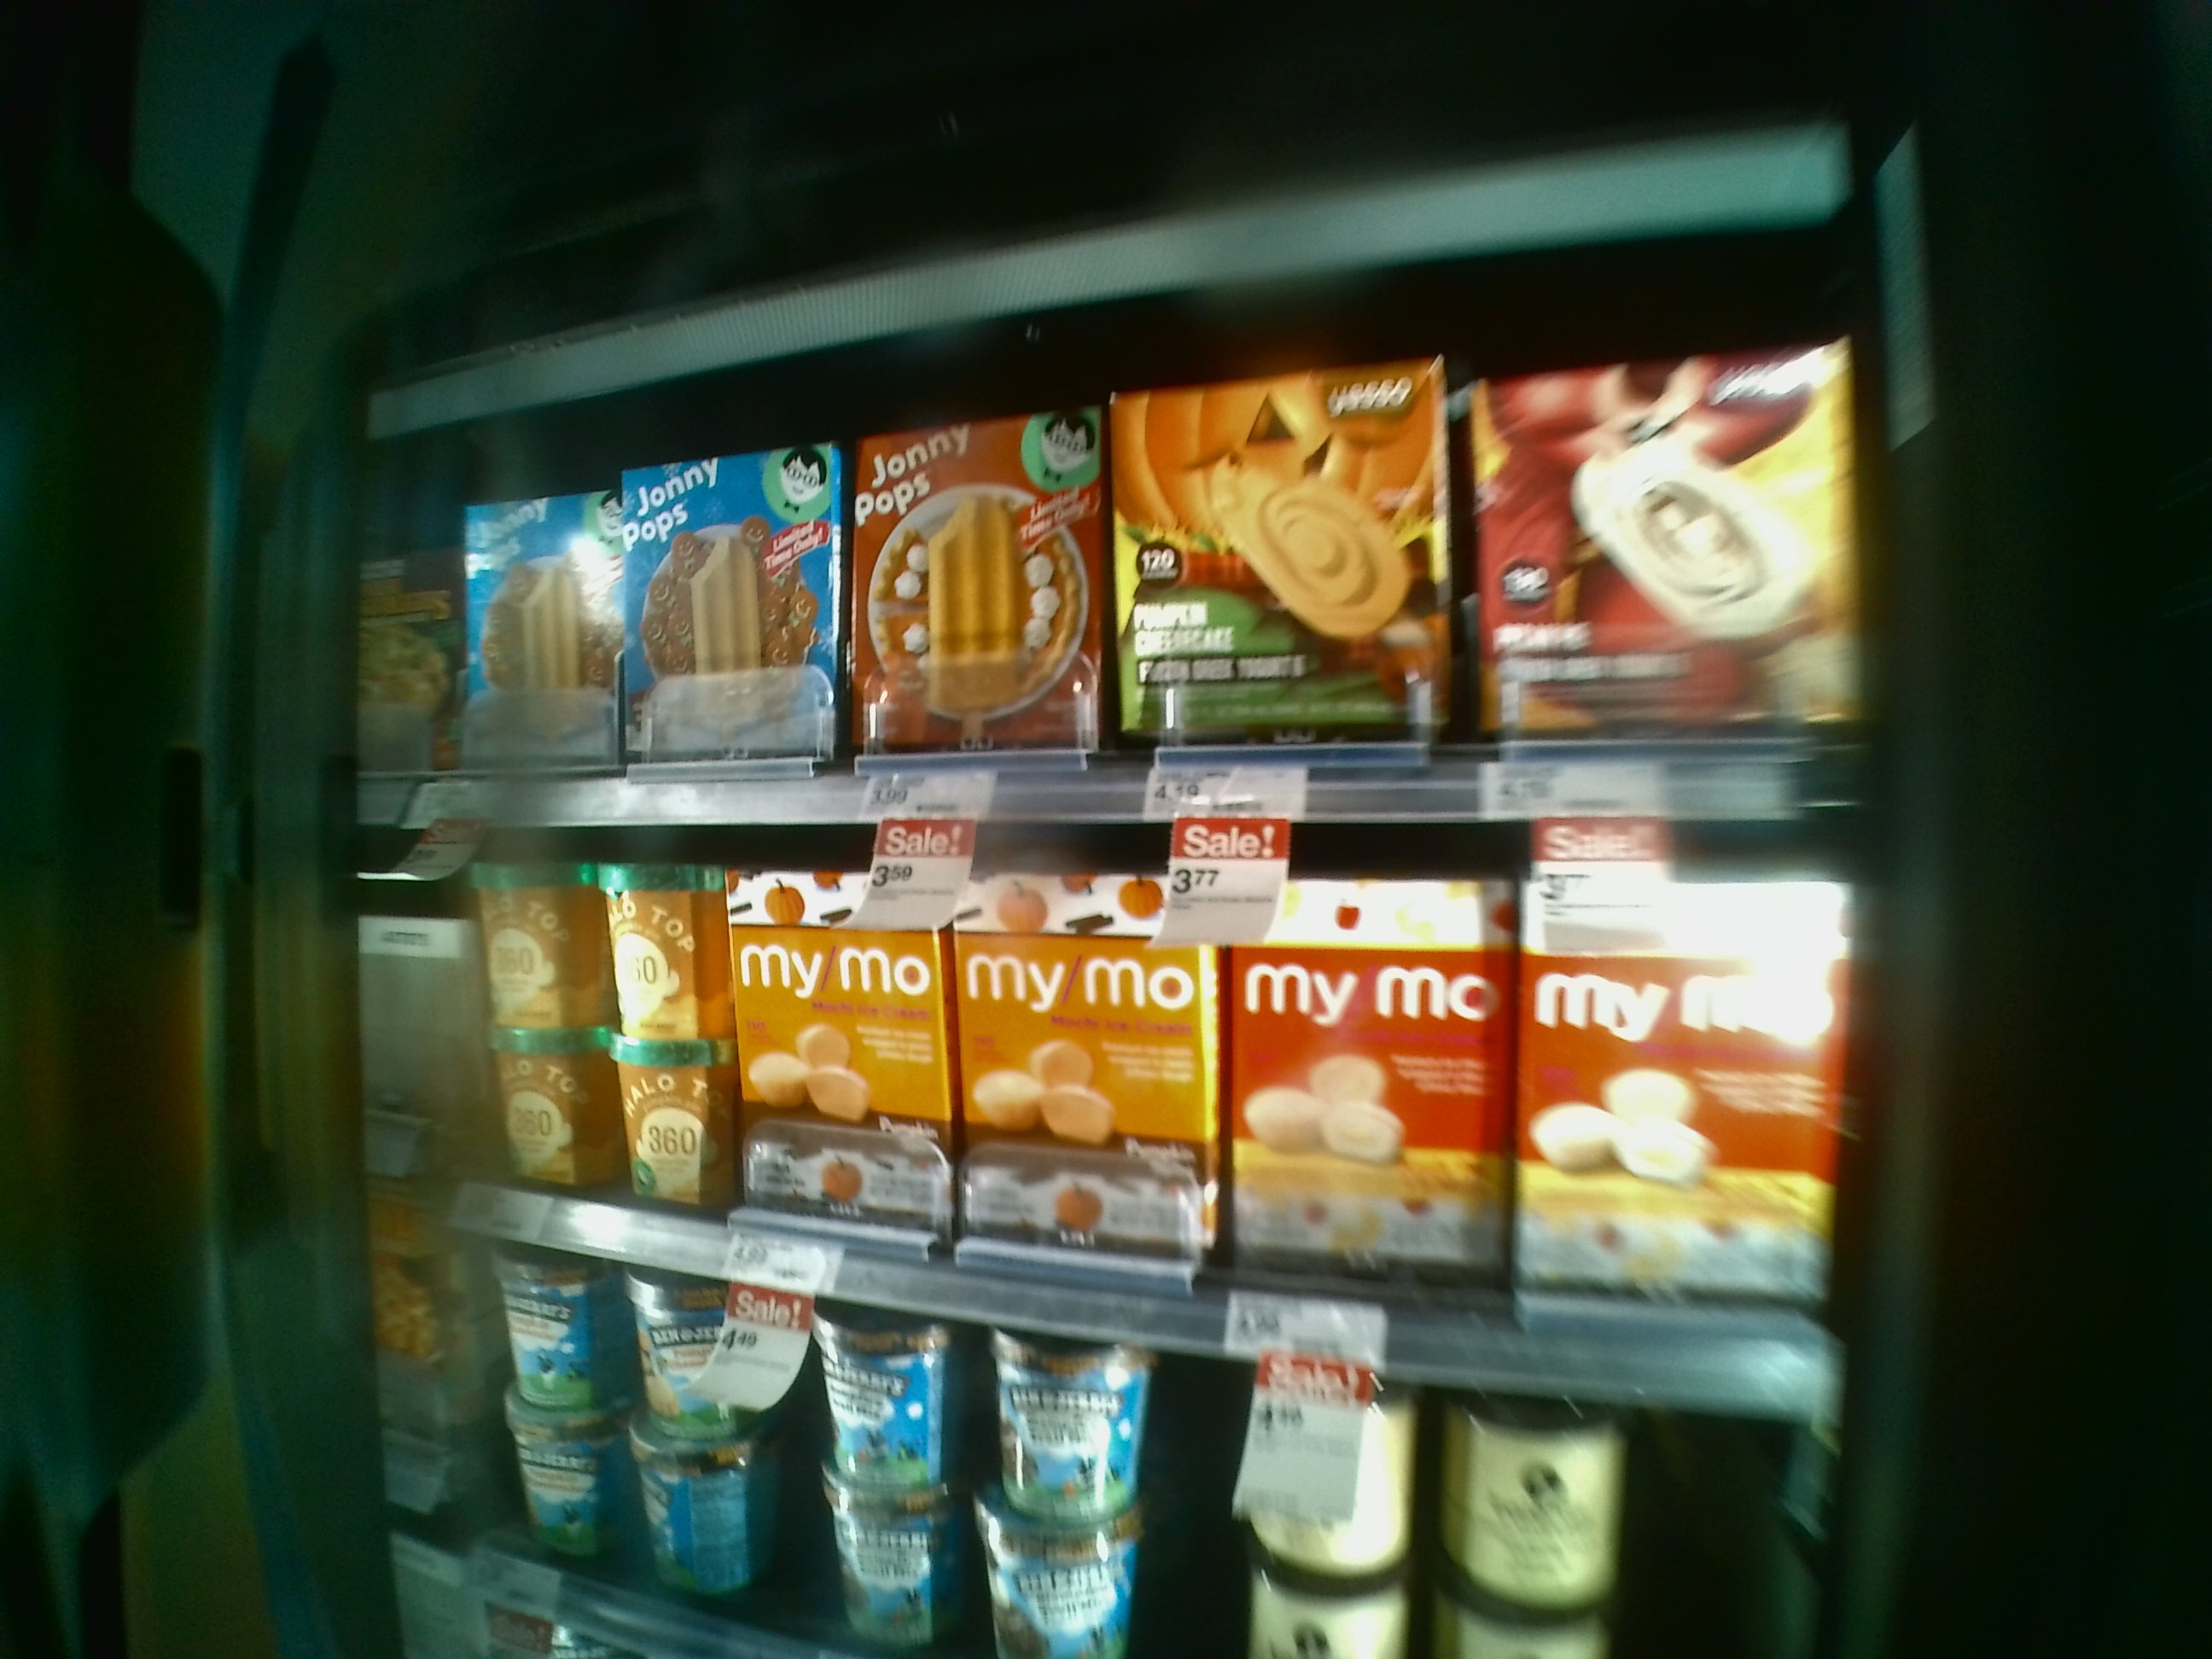shelf: (366, 816, 1876, 1370), (347, 326, 1890, 791)
